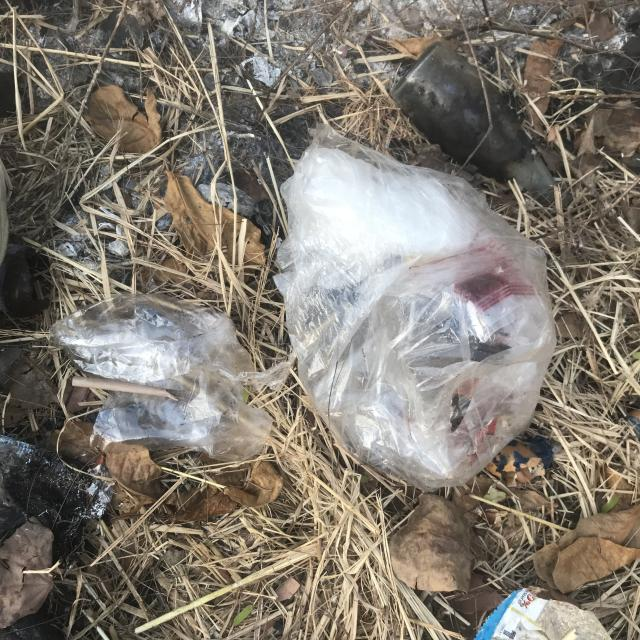Single-layer Plastic: (278, 125, 555, 490), (52, 295, 272, 461)
